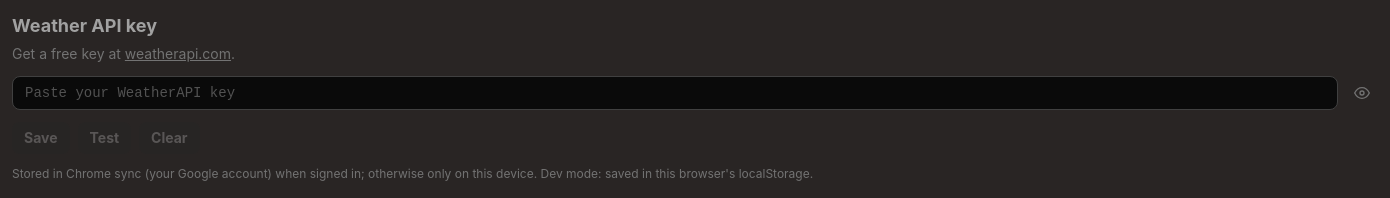
ApiKeySection › saves the trimmed key
This screenshot has width=1390, height=198.
Type "  abc  " into the password field labelled "WeatherAPI key" at point(675, 93), box x1=12 y1=76 x2=1338 y2=110
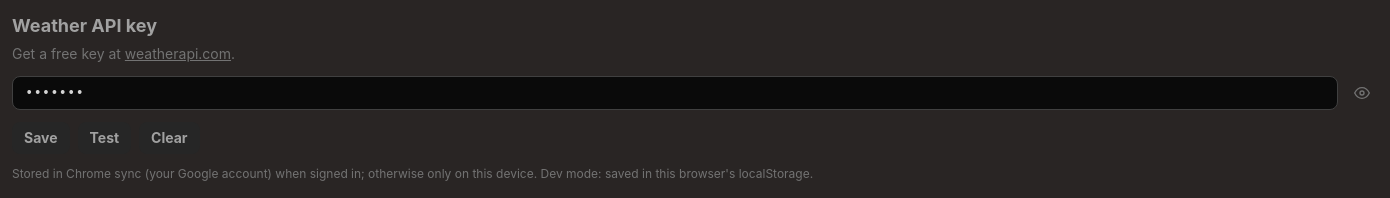
Click the button "Save" at point(41, 138), box x1=12 y1=122 x2=70 y2=154
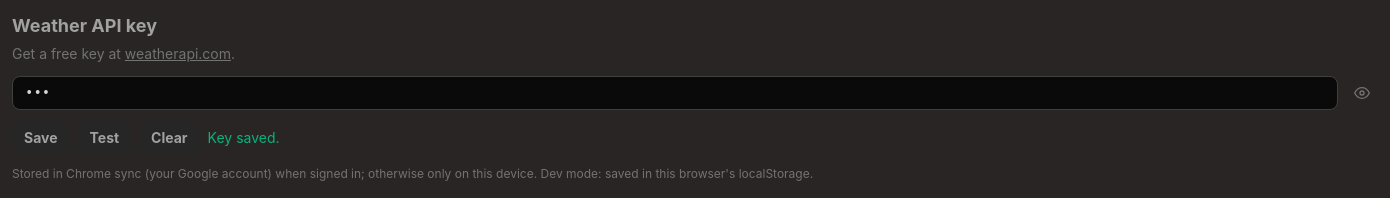
Now the text "Key saved." is shown, box x1=208 y1=128 x2=280 y2=148
